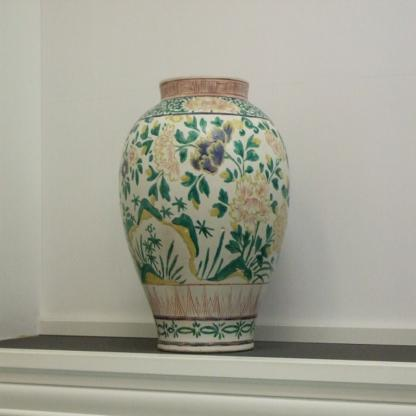vase: (118, 78, 289, 354)
